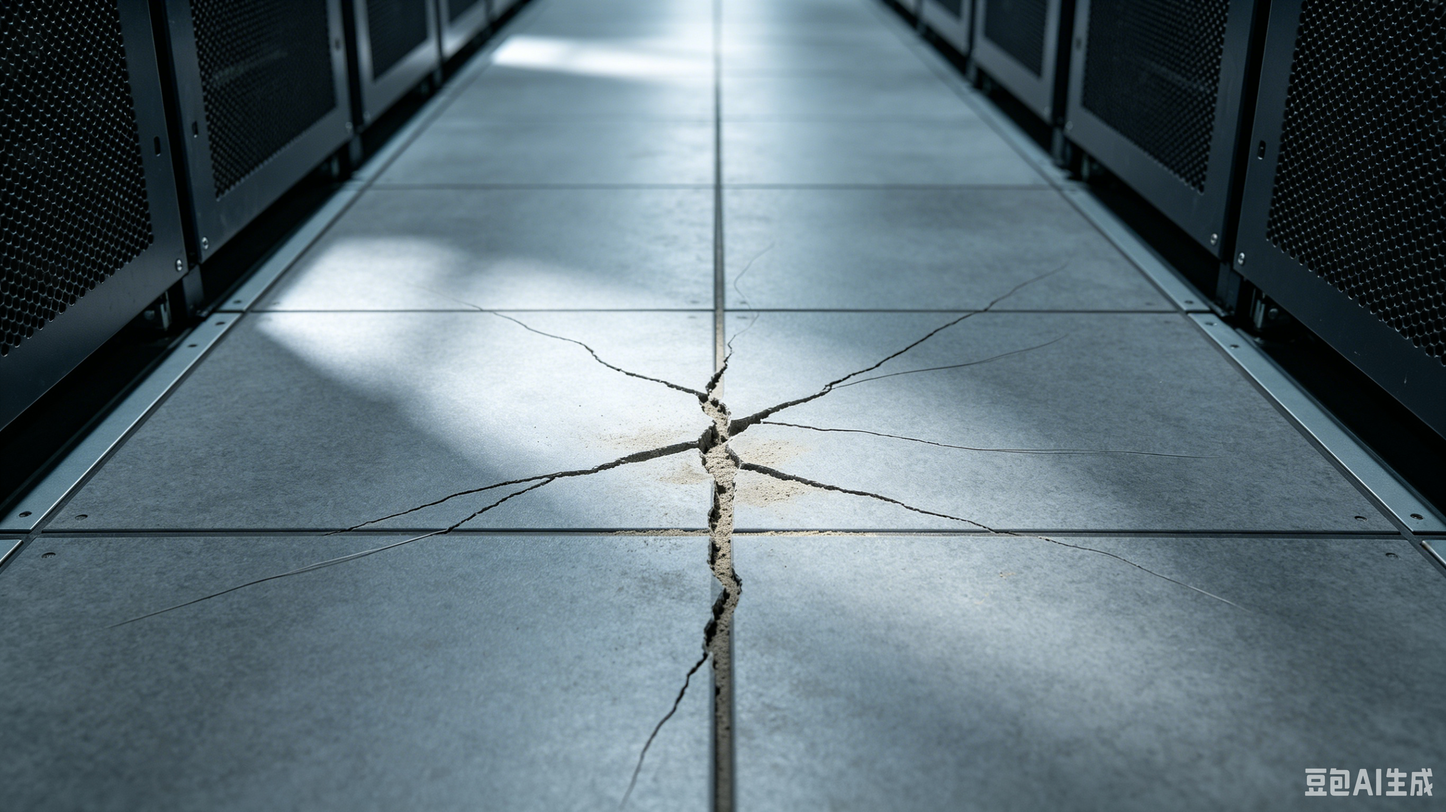floor_defect: (500, 306, 1025, 560), (621, 568, 797, 812), (319, 477, 496, 568)
